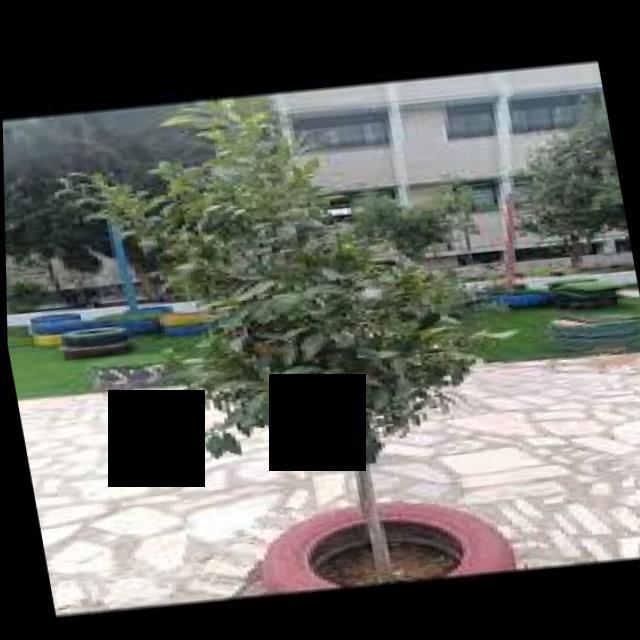Tree: (84, 65, 503, 607), (3, 110, 142, 315), (493, 82, 634, 273)
